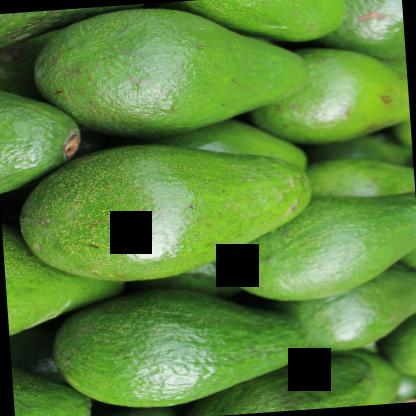avocado: (17, 133, 316, 287), (30, 0, 311, 146), (51, 280, 308, 413), (215, 187, 415, 306)
